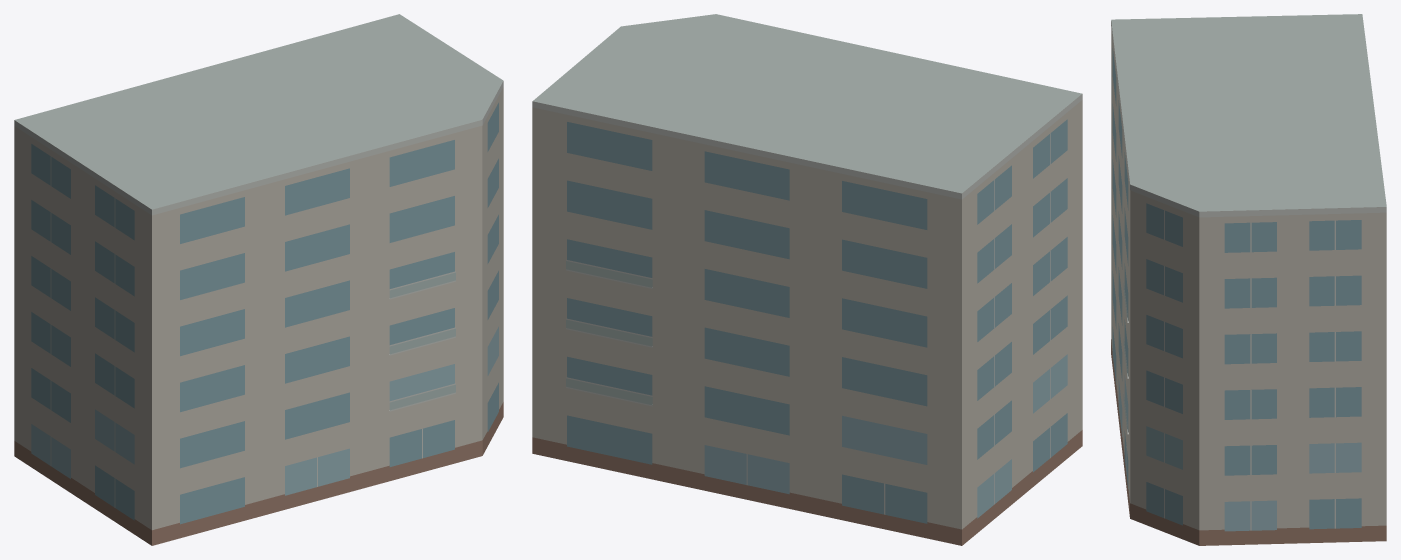
The model's file is survey-upis-32709027.glb.
3 renders of one model, left to right at view 1: azimuth 30°, elevation 25°; view 2: azimuth 150°, elevation 25°; view 3: azimuth 270°, elevation 25°, orthographic. The views are drawn at different scales.
Visible parts, largest first — view 1: survey-upis-32709027.tmp; view 2: survey-upis-32709027.tmp; view 3: survey-upis-32709027.tmp.
Part boxes in pixels (x1,y1,x2,y2): survey-upis-32709027.tmp: (14,14,503,545); survey-upis-32709027.tmp: (532,14,1082,545); survey-upis-32709027.tmp: (1111,14,1386,545).
Bounding box in the file's own units: 17.89 × 14.1 × 10.55.
